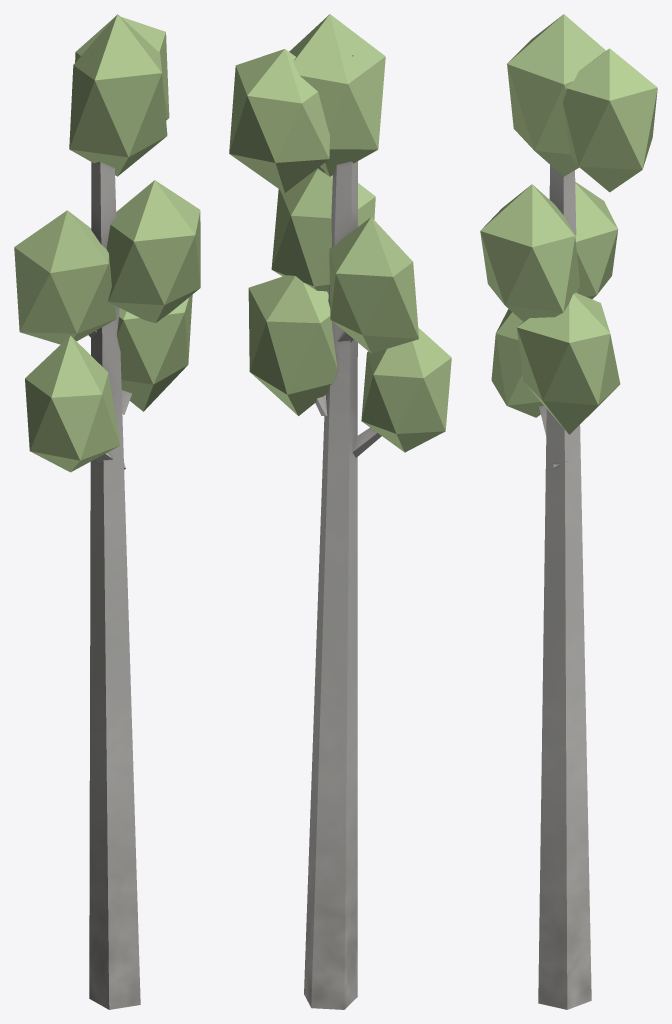
File: arv_betula_4.glb
3 views of the same model, side by side, from view 1: azimuth 30°, elevation 25°; view 2: azimuth 150°, elevation 25°; view 3: azimuth 270°, elevation 25° (orthographic).
Parts seen in each view (by area): view 1: arv_betula_4; view 2: arv_betula_4; view 3: arv_betula_4.
Part boxes in pixels (box(x1,y1,x2,y2)): arv_betula_4: box(14, 14, 200, 1009); arv_betula_4: box(229, 14, 451, 1009); arv_betula_4: box(480, 14, 657, 1009).
Bounding box in the file's own units: 0.4781 × 2.5 × 0.4079.
Materials: 2 (1 with a texture image).
